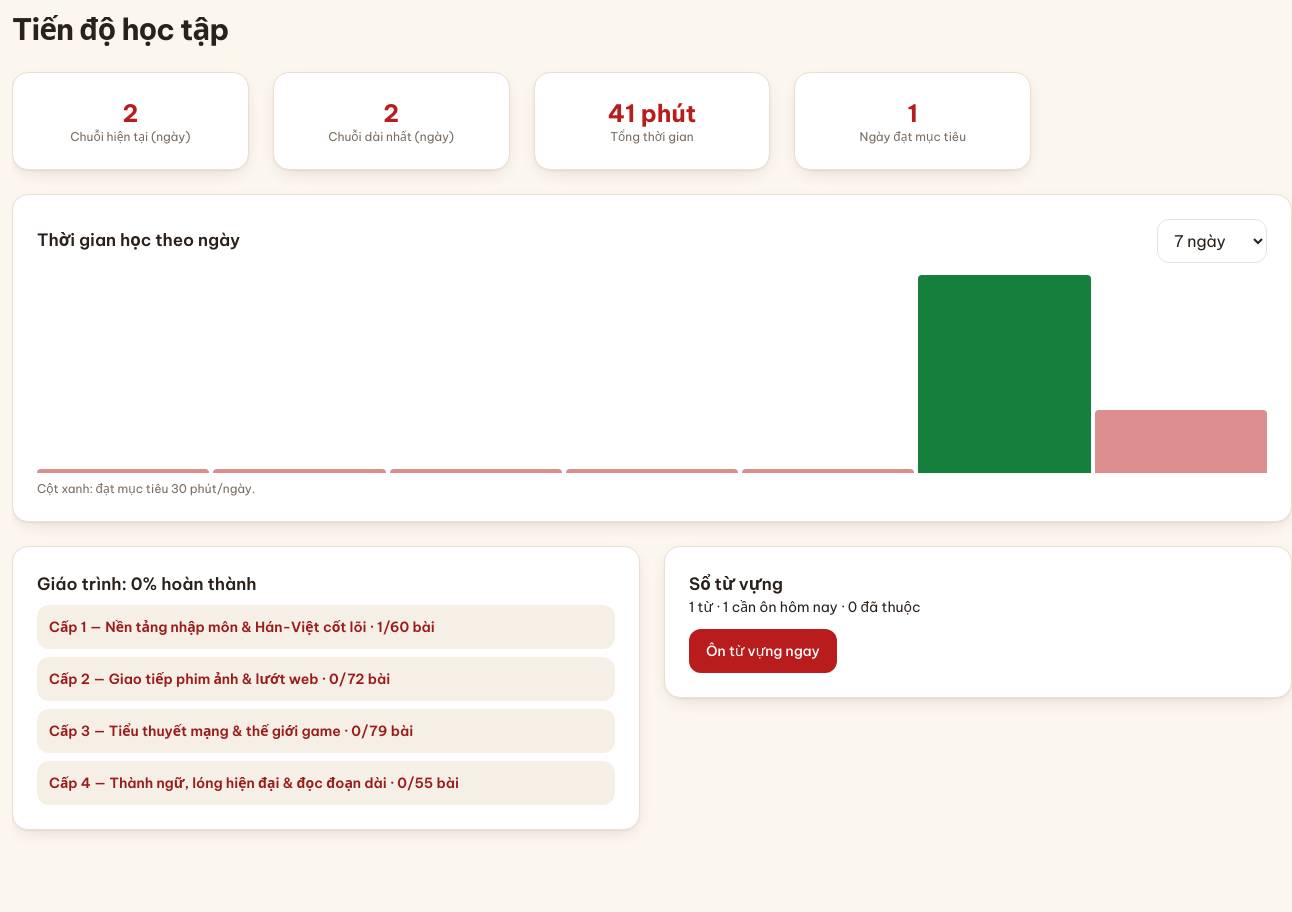
Test: ProgressPage › hiển thị số liệu, biểu đồ 7/30 ngày, giáo trình và SRS
Expected: the 1st text "2" is shown, [122,98,138,128]
Expected: the text "41 phút" is shown, [608,98,696,128]
Select "30 ngày" in the dropdown named "Khoảng thời gian": (1212, 240) [1157,218,1267,262]
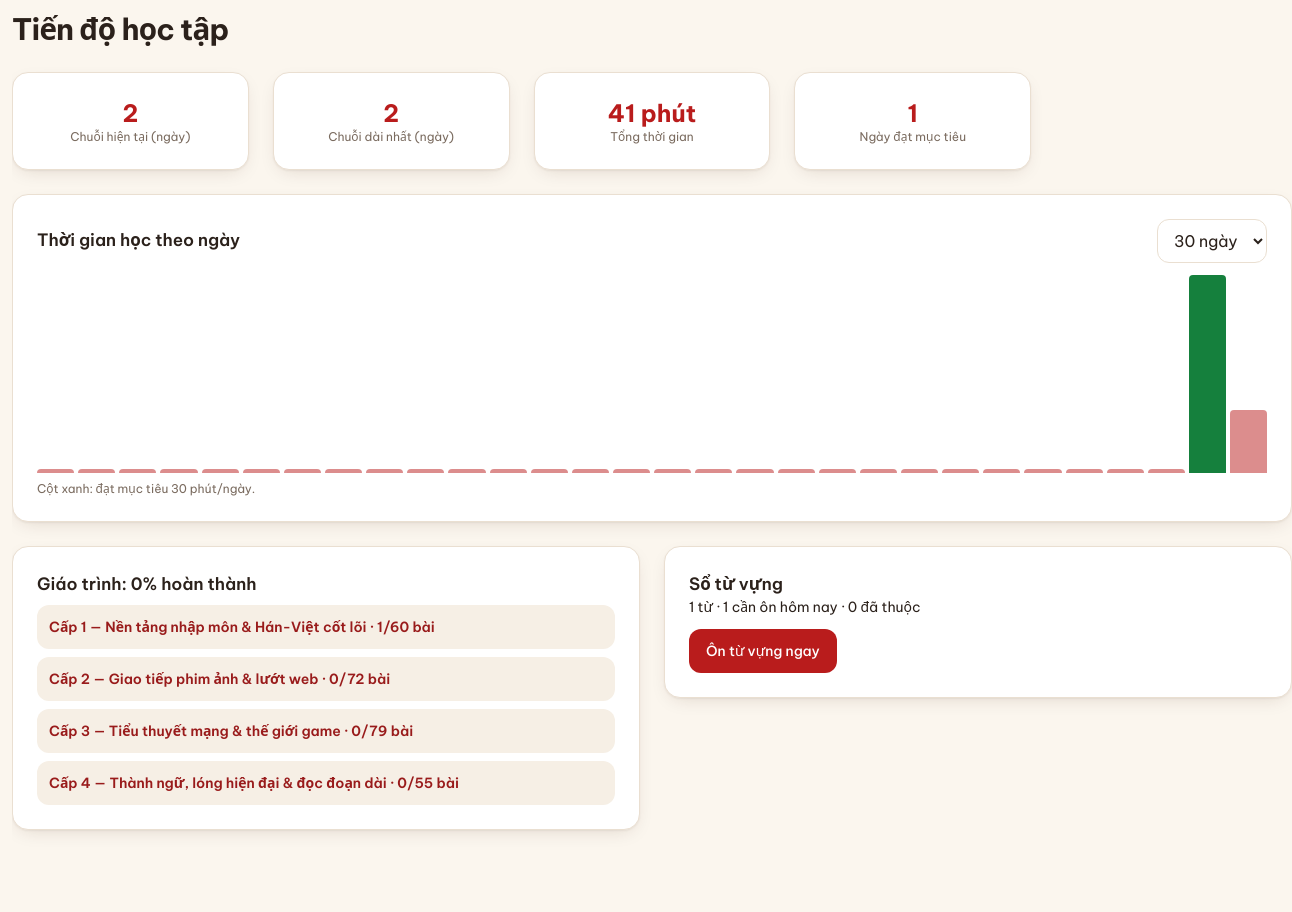
Expected: the text with test id "srs-summary" reads "1 từ · 1 cần ôn hôm nay · 0 đã thuộc", [689,598,920,616]
Now the number of elements with test id "day-bar" is 30
